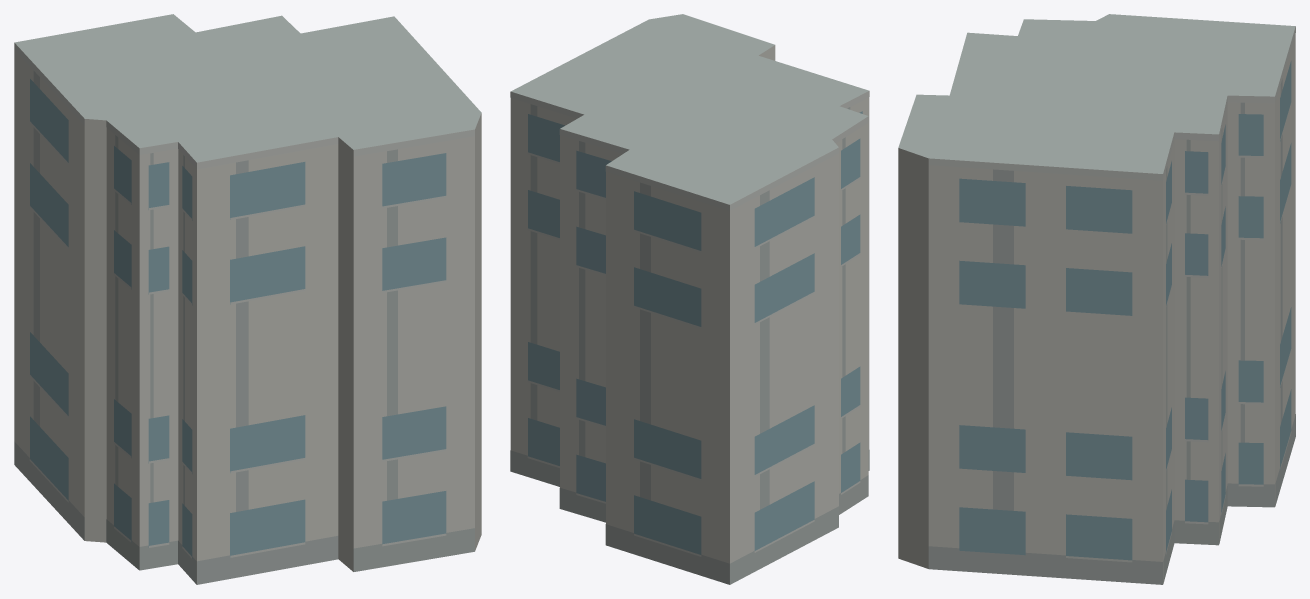
File: survey-upis-32983077.glb
3 renders of one model, left to right at view 1: azimuth 30°, elevation 25°; view 2: azimuth 150°, elevation 25°; view 3: azimuth 270°, elevation 25°, orthographic. The views are drawn at different scales.
Visible parts, largest first — view 1: survey-upis-32983077.tmp; view 2: survey-upis-32983077.tmp; view 3: survey-upis-32983077.tmp.
Part boxes in pixels (bbox=[...]): survey-upis-32983077.tmp: bbox=[14, 14, 481, 584]; survey-upis-32983077.tmp: bbox=[510, 14, 869, 584]; survey-upis-32983077.tmp: bbox=[898, 14, 1295, 584].
Size of the model in its own units: 12.42 by 14.85 by 13.03.
